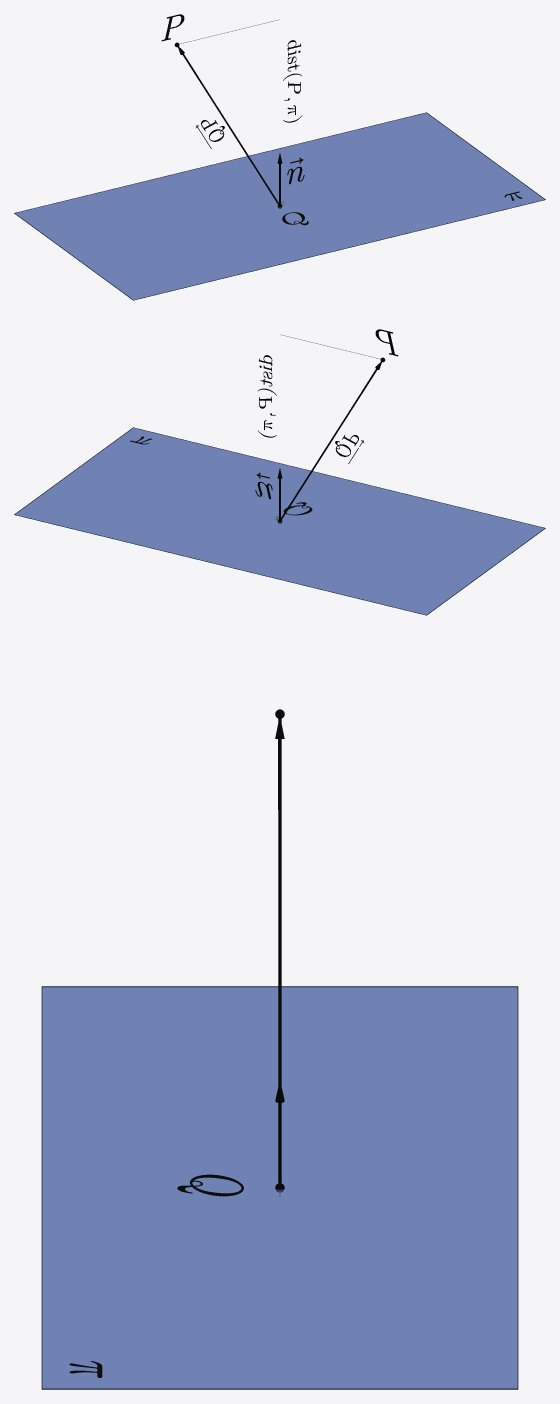
3 views of the same model, one above another, from view 1: azimuth 30°, elevation 25°; view 2: azimuth 150°, elevation 25°; view 3: azimuth 270°, elevation 25° (orthographic). The views are drawn at different scales.
Parts seen in each view (by area): view 1: Plano, Meshn.028; view 2: Plano, Meshn.028; view 3: Plano, segmento.
Part boxes in pixels (left/top/right/bottom): Plano: left=14, top=112, right=545, bottom=300; Meshn.028: left=283, top=40, right=301, bottom=122; Plano: left=14, top=427, right=545, bottom=615; Meshn.028: left=258, top=355, right=276, bottom=437; Plano: left=41, top=986, right=518, bottom=1389; segmento: left=278, top=718, right=281, bottom=1085.
Bounding box in the file's own units: 4.01 × 2.04 × 2.
